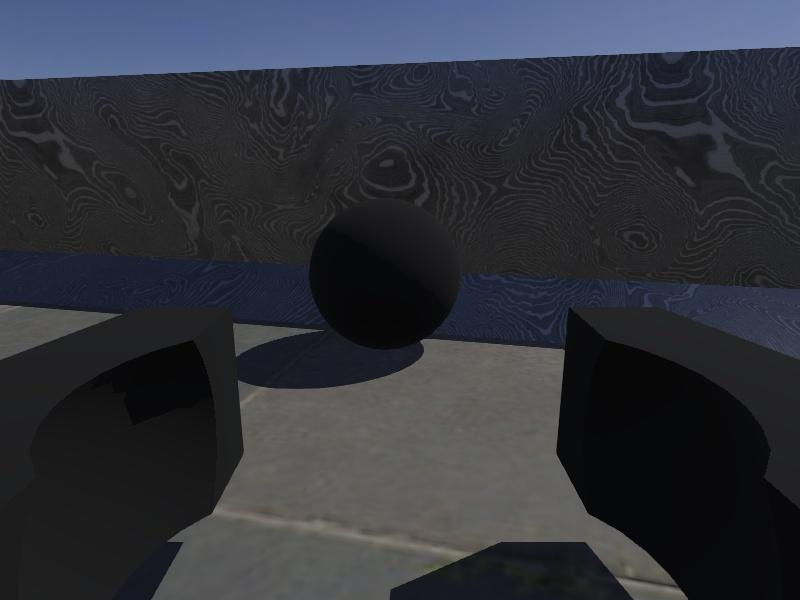black ball: (308, 197, 461, 352)
